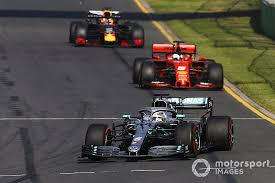f1_car: (76, 91, 246, 169), (129, 38, 233, 97), (66, 3, 151, 54)
